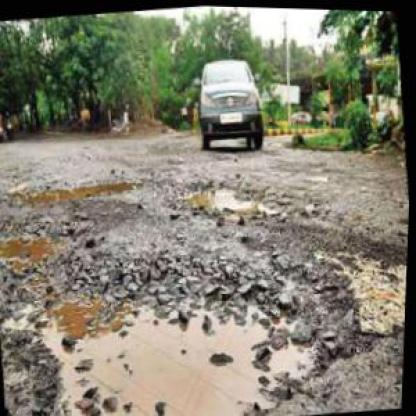pothole: (180, 166, 282, 228), (18, 171, 143, 214)
